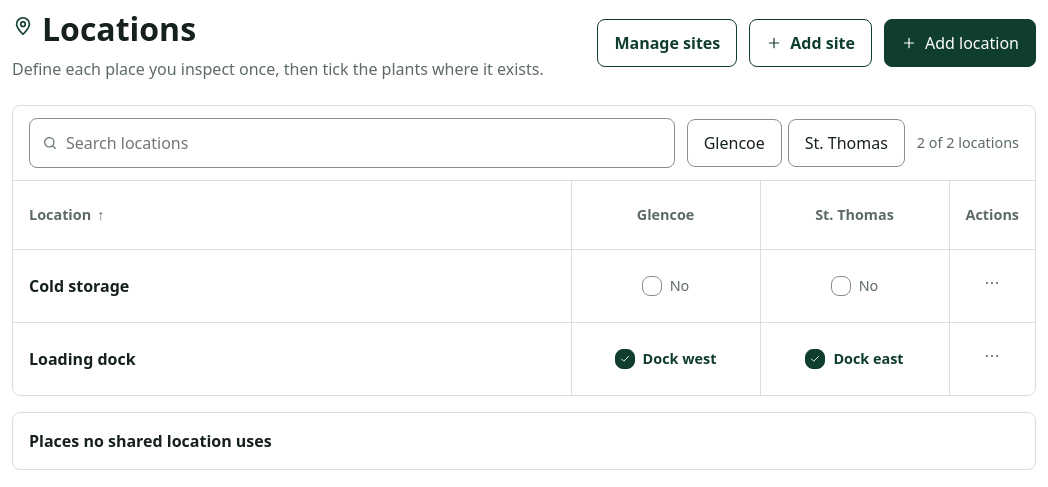
Test: buscar y elegir plantas › apagar la única prendida vuelve a mostrar todas
Click the button "Glencoe".
click(734, 143)  # box [687,119,782,167]
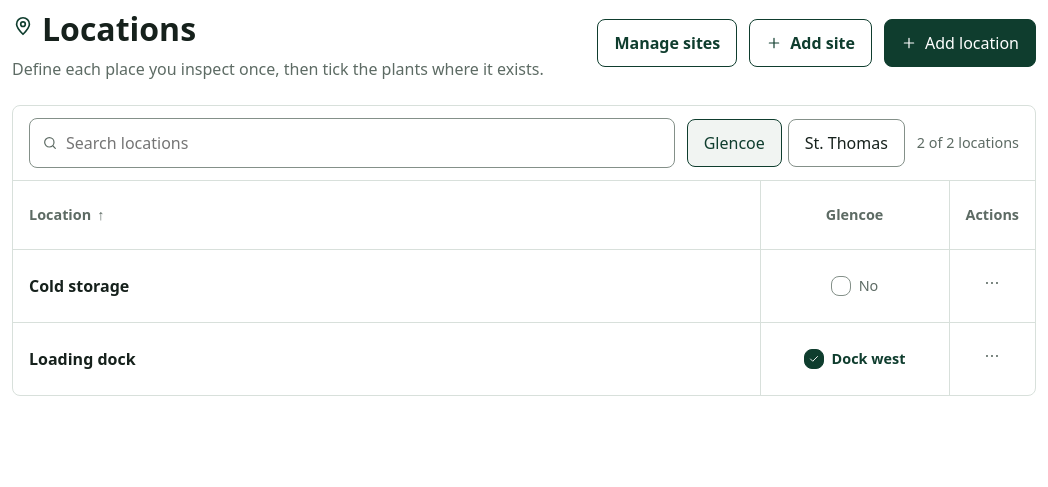
Click the button "Glencoe".
click(734, 143)  # box [687,119,782,167]
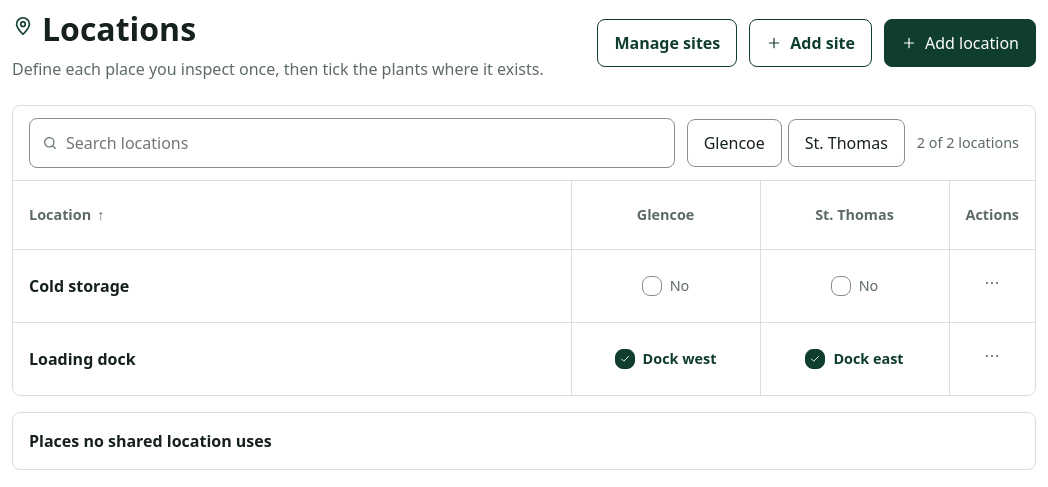
Expected: the checkbox named "Loading dock in Glencoe" is shown, [578,335,754,383]
Expected: the checkbox named "Loading dock in St. Thomas" is shown, [766,335,942,383]
